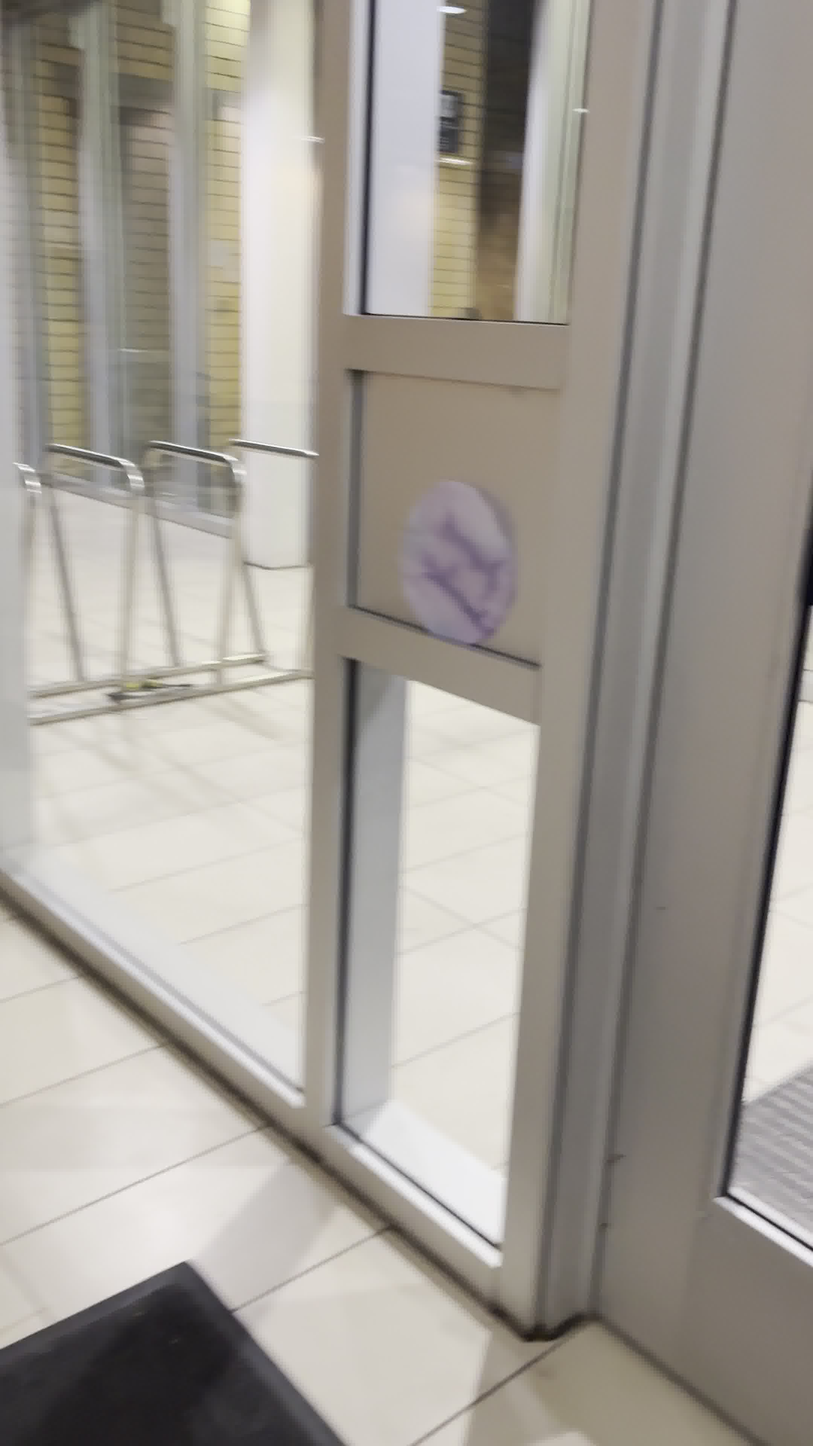Target: (396, 473, 521, 651)
